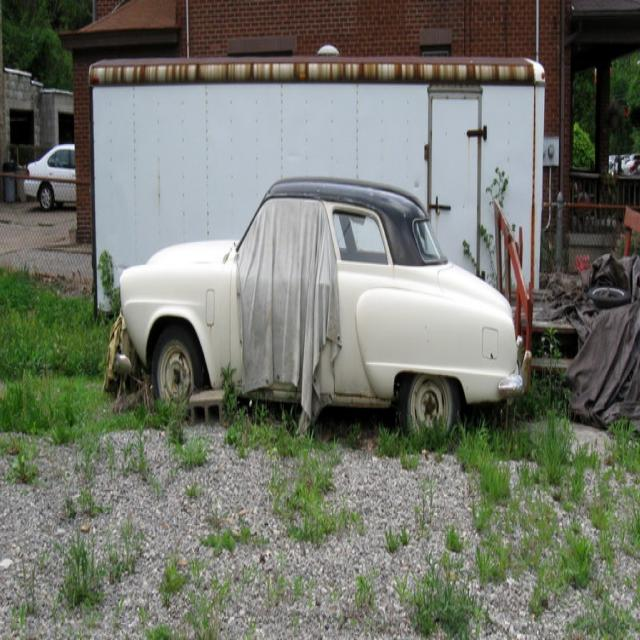other: (123, 165, 525, 447), (20, 143, 75, 215)
